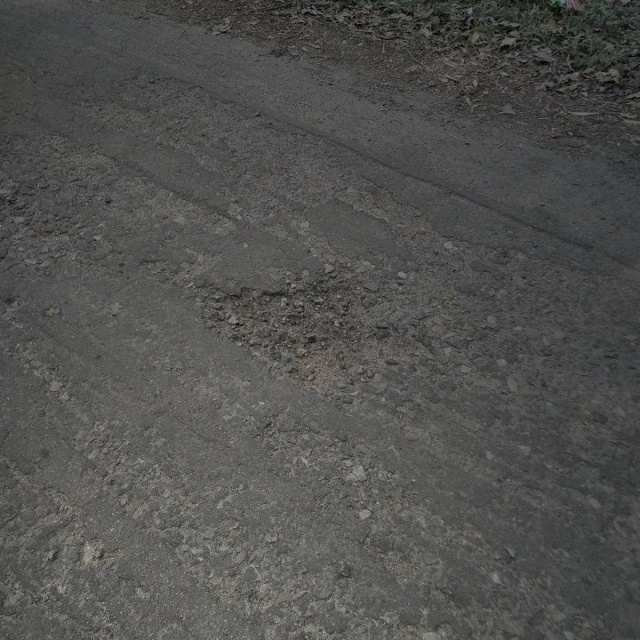pothole: (199, 276, 431, 396)
